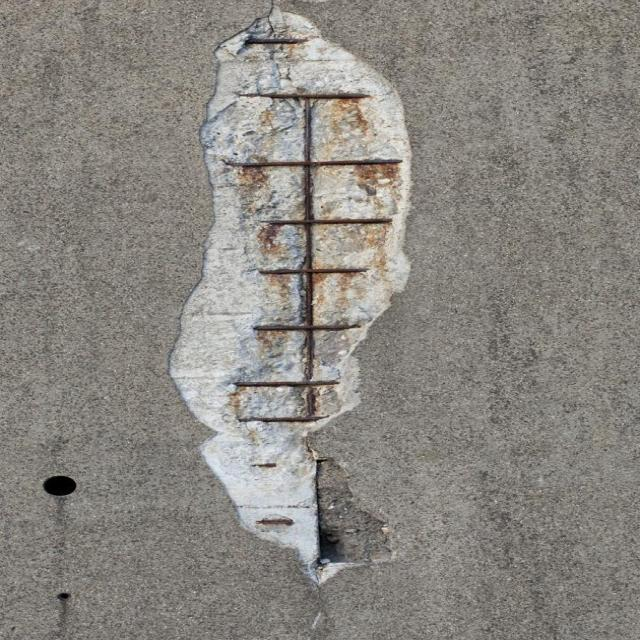Rebar: (166, 3, 412, 584)
